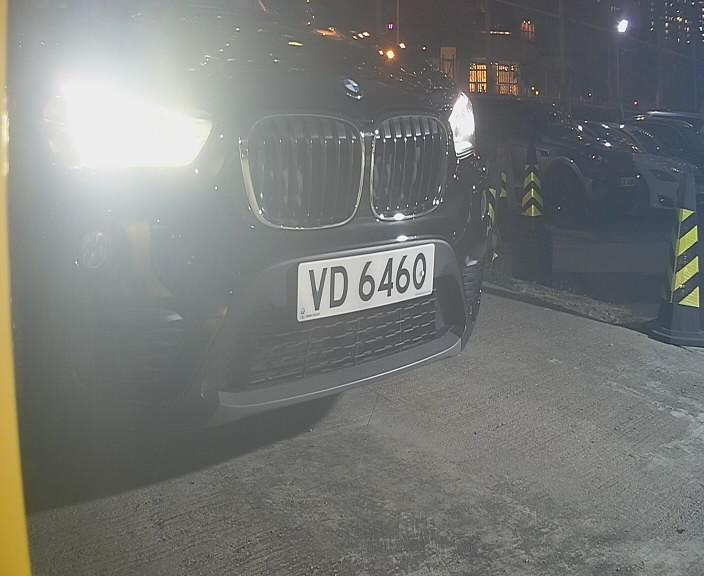privatecar: (10, 1, 510, 448)
